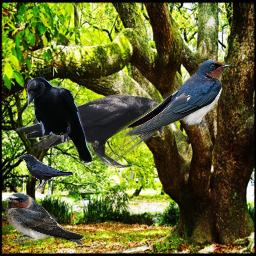Crow: (14, 94, 164, 168), (26, 77, 93, 167), (17, 154, 74, 190)
Swallow: (105, 60, 231, 165), (3, 192, 85, 246)
